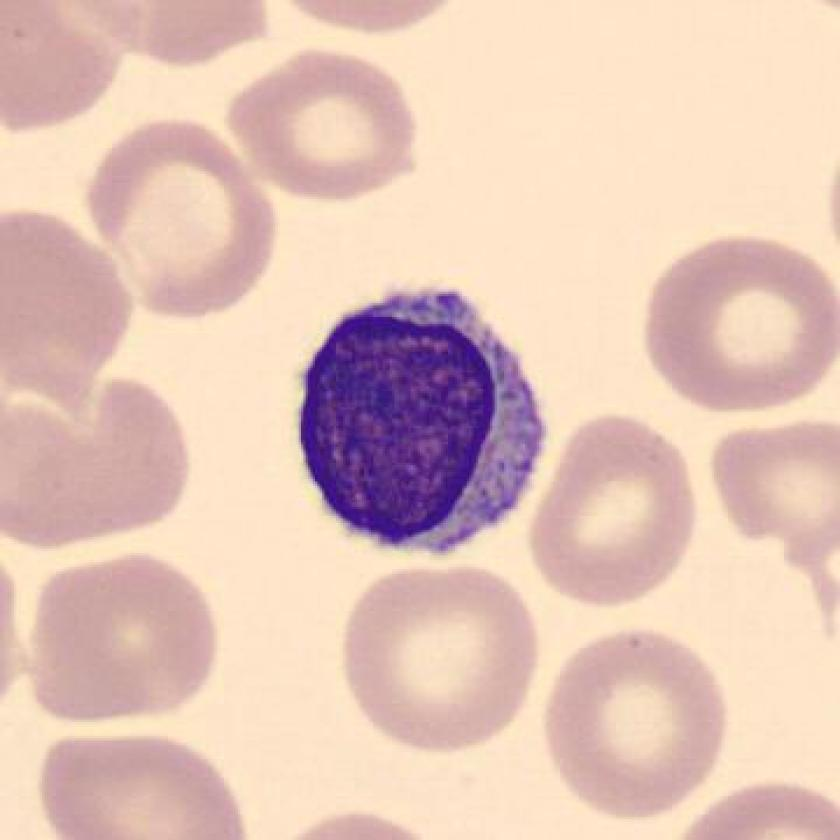lymphocyte: (281, 270, 566, 580)
